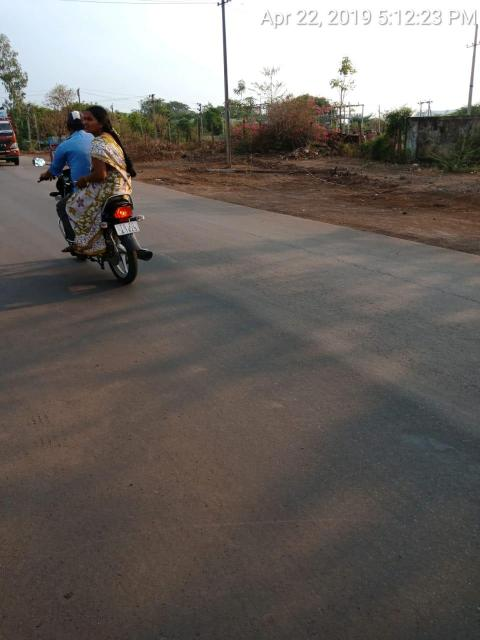motor: (33, 157, 156, 289)
non-helm: (83, 107, 112, 136), (67, 111, 86, 136)
